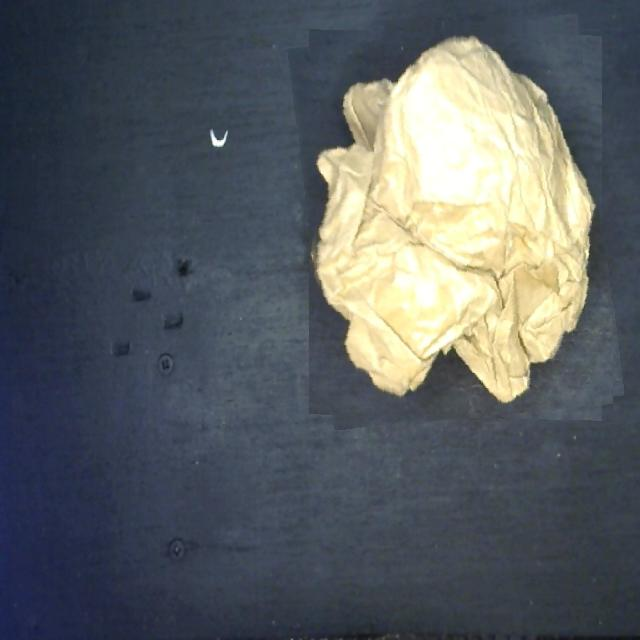biodegradable: (298, 21, 613, 422)
